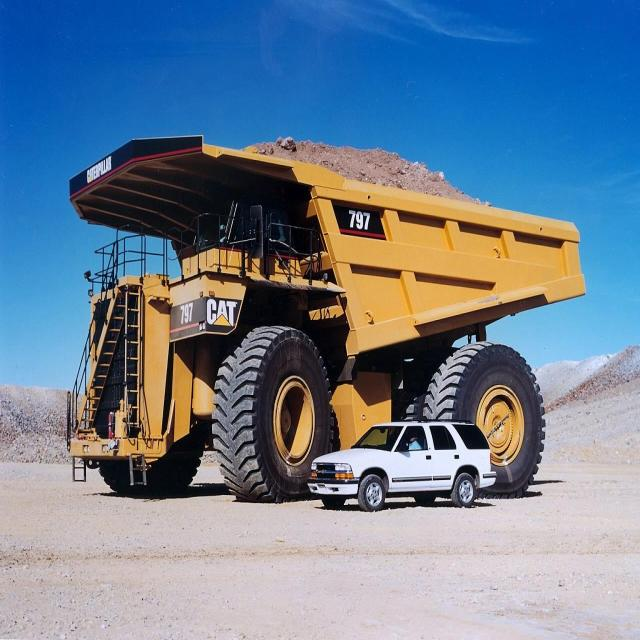dump_truck: (61, 108, 586, 510)
light_vehicle: (303, 412, 499, 507)
